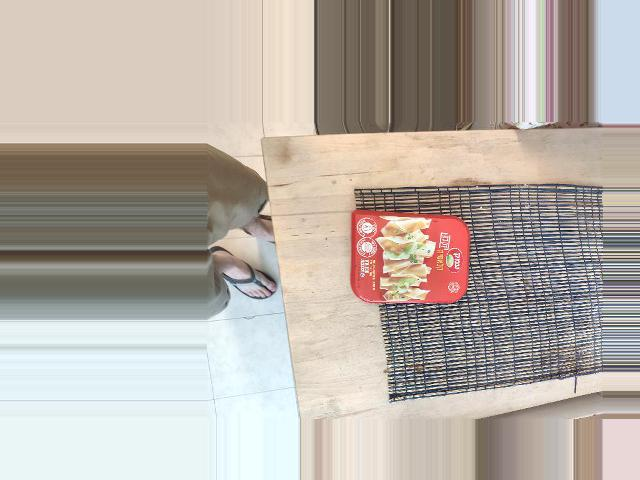cheese: (356, 249, 502, 396)
